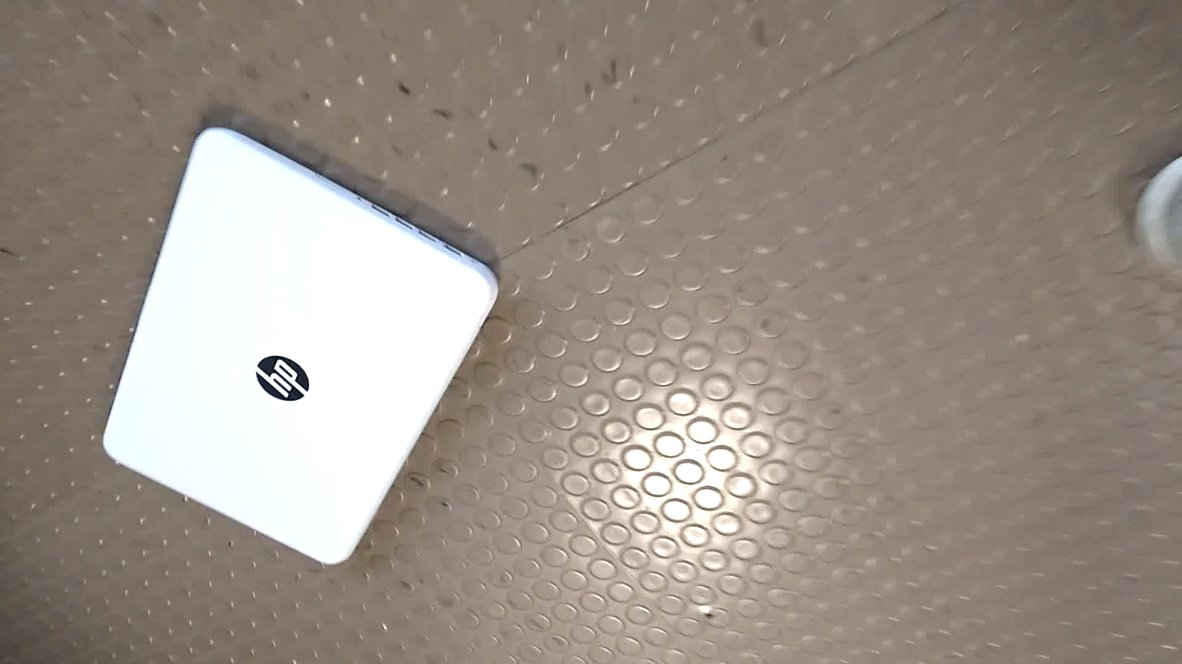laptop: (96, 106, 508, 574)
